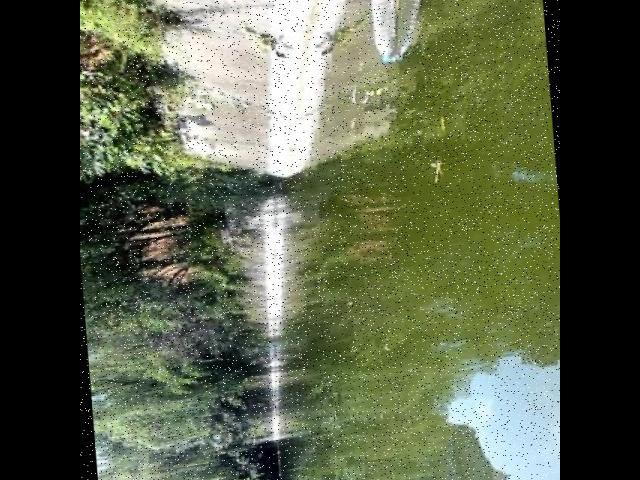Bottle: (365, 0, 404, 67)
